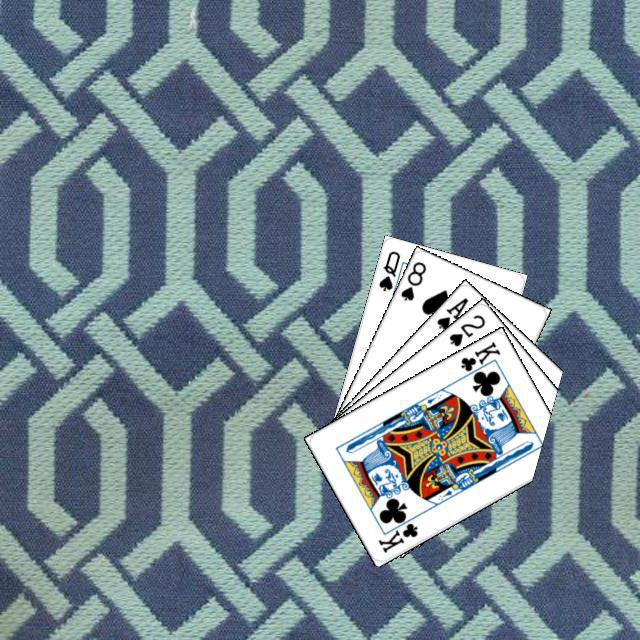2s: (444, 310, 487, 348)
8s: (395, 256, 428, 302)
As: (432, 292, 470, 332)
Kc: (373, 510, 420, 555), (456, 336, 502, 380)
Qs: (374, 246, 402, 293)
